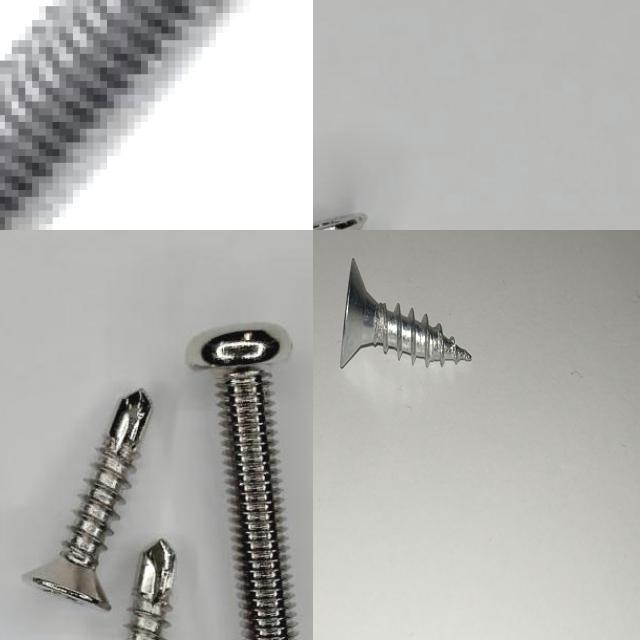Screw: (0, 0, 242, 230), (188, 323, 297, 640), (25, 389, 152, 610), (340, 257, 472, 367), (127, 539, 176, 640)
